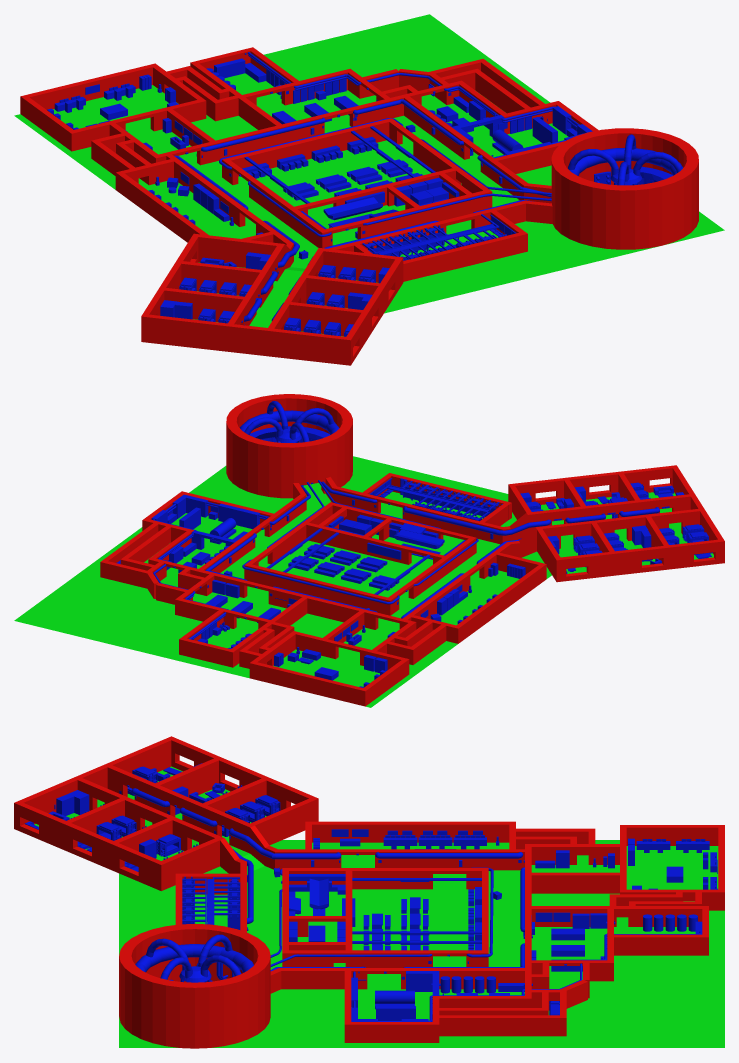
Rendered from blockout.fbx.
3 views of the same model, one above another, from view 1: azimuth 30°, elevation 25°; view 2: azimuth 150°, elevation 25°; view 3: azimuth 270°, elevation 25° (orthographic). The views are drawn at different scales.
Parts seen in each view (by area): view 1: suelo.002, pared.067, pared.058, pared.010, tuberia.016, pared.003, pared.020, pared.001, pared.009, pared.060, pared.033, pared.023 (+39 smaller); view 2: suelo.002, pared.067, pared.061, tuberia.016, pared.060, pared.054, pared.055, pared.010, pared.001, pared.066, pared.033, pared.002 (+29 smaller); view 3: suelo.002, pared.067, pared.060, tuberia.016, pared.054, pared.009, pared.065, pared.023, pared.055, pared.058, pared.018, pared.061 (+40 smaller).
Part boxes in pixels (left/top/right/bottom): suelo.002: left=14, top=14, right=724, bottom=313; pared.067: left=551, top=128, right=698, bottom=249; pared.058: left=147, top=314, right=352, bottom=365; pared.010: left=152, top=95, right=403, bottom=165; tuberia.016: left=174, top=99, right=551, bottom=321; pared.003: left=319, top=189, right=492, bottom=248; pared.020: left=403, top=233, right=522, bottom=281; pared.001: left=222, top=118, right=394, bottom=179; pared.009: left=401, top=94, right=532, bottom=201; pared.060: left=346, top=256, right=403, bottom=362; pared.033: left=26, top=65, right=152, bottom=109; pared.023: left=119, top=173, right=208, bottom=242; suelo.002: left=14, top=456, right=551, bottom=707; pared.067: left=226, top=394, right=352, bottom=498; pared.061: left=555, top=539, right=724, bottom=582; tuberia.016: left=205, top=481, right=659, bottom=618; pared.060: left=508, top=466, right=672, bottom=504; pared.054: left=519, top=509, right=699, bottom=557; pared.055: left=495, top=494, right=690, bottom=544; pared.010: left=200, top=570, right=416, bottom=631; pared.001: left=244, top=563, right=392, bottom=615; pared.066: left=330, top=485, right=501, bottom=542; pared.033: left=254, top=662, right=362, bottom=705; pared.002: left=301, top=521, right=449, bottom=573; suelo.002: left=119, top=840, right=724, bottom=1047; pared.067: left=119, top=923, right=270, bottom=1048; pared.060: left=18, top=803, right=165, bottom=890; tuberia.016: left=132, top=788, right=524, bottom=979; pared.054: left=107, top=765, right=269, bottom=865; pared.009: left=272, top=968, right=531, bottom=989; pared.065: left=279, top=849, right=524, bottom=870; pared.023: left=312, top=821, right=509, bottom=842; pared.055: left=77, top=778, right=246, bottom=873; pared.058: left=14, top=738, right=171, bottom=830; pared.018: left=439, top=1015, right=559, bottom=1036; pared.061: left=167, top=736, right=318, bottom=821.
Bounding box in the file's own units: 9884 × 1175 × 10601.
